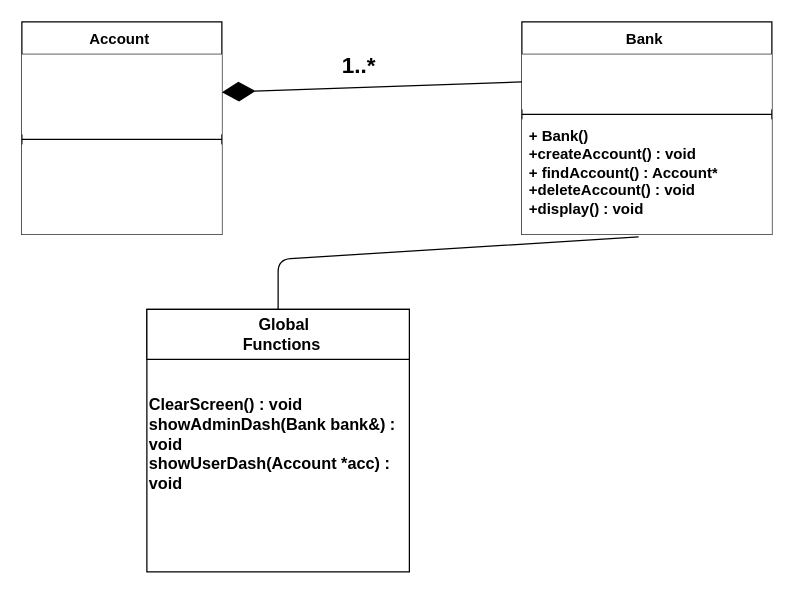
The diagram is 794 pixels wide and 594 high, and some of its shapes have lost their labels. Here are the shapes that lost their labels. From the top down, the centre of each, then its label:
At pixel 121 94: "- accountNum : long - ownerName : string - balance : long".
At pixel 646 81: "- accounts : vector<Account> - nextAccountNumber : string".
At pixel 121 189: "+getName() : string +display() : void +deposit() : void +withdraw() : void".
